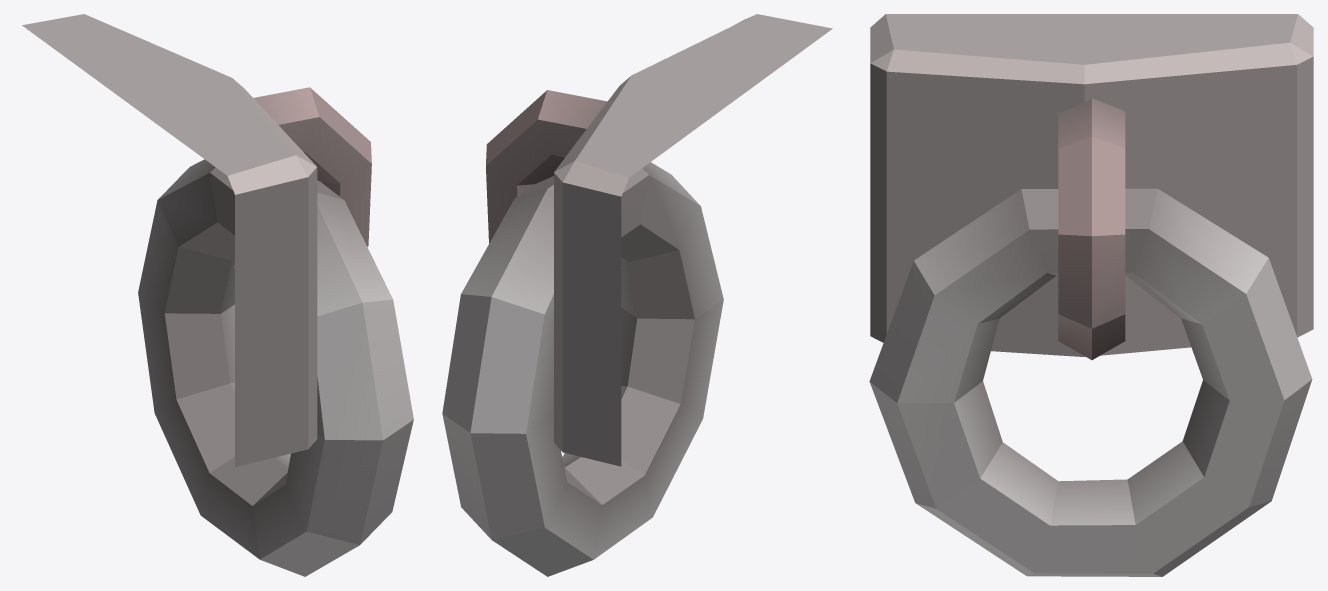
File: WallRing.glb
3 views of the same model, side by side, from view 1: azimuth 30°, elevation 25°; view 2: azimuth 150°, elevation 25°; view 3: azimuth 270°, elevation 25° (orthographic).
Visible parts, largest first — view 1: WallRing; view 2: WallRing; view 3: WallRing.
Part boxes in pixels (x1,y1,x2,y2): WallRing: (22, 14, 413, 576); WallRing: (442, 14, 832, 576); WallRing: (869, 14, 1313, 576).
Bounding box in the file's own units: 0.2658 × 0.504 × 0.4141.
